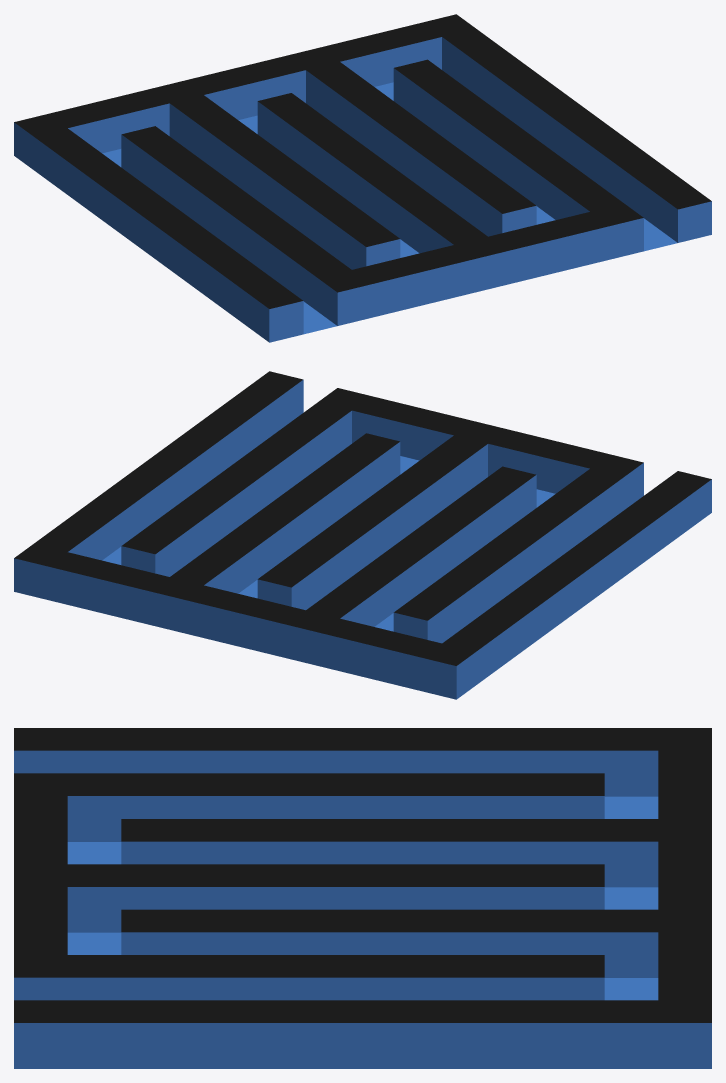
File: maze level1.fbx
3 renders of one model, top to bottom at view 1: azimuth 30°, elevation 25°; view 2: azimuth 150°, elevation 25°; view 3: azimuth 270°, elevation 25°, orthographic. The views are drawn at different scales.
Parts seen in each view (by area): view 1: Plane.001; view 2: Plane.001; view 3: Plane.001.
Boxes of the visible parts, box(x1,y1,x2,y2) form: Plane.001: box(14, 14, 711, 342); Plane.001: box(14, 371, 711, 699); Plane.001: box(14, 728, 711, 1068).
Size of the model in its own units: 1380 by 100 by 1380.
